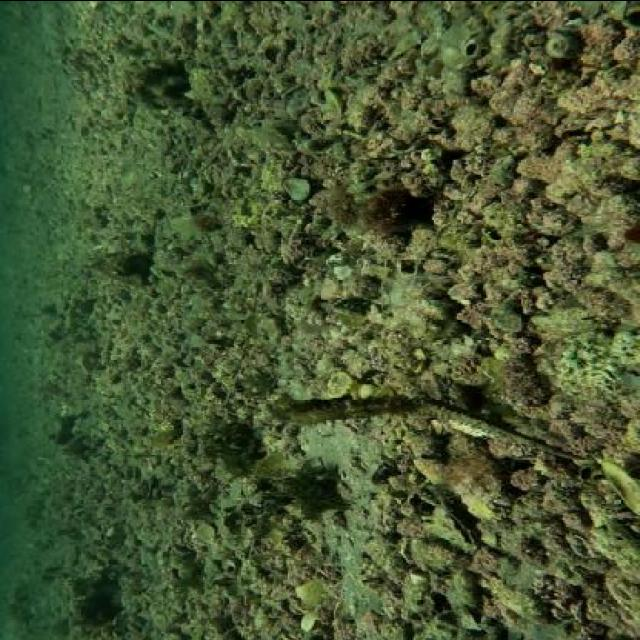Guttu: (284, 383, 422, 428)
